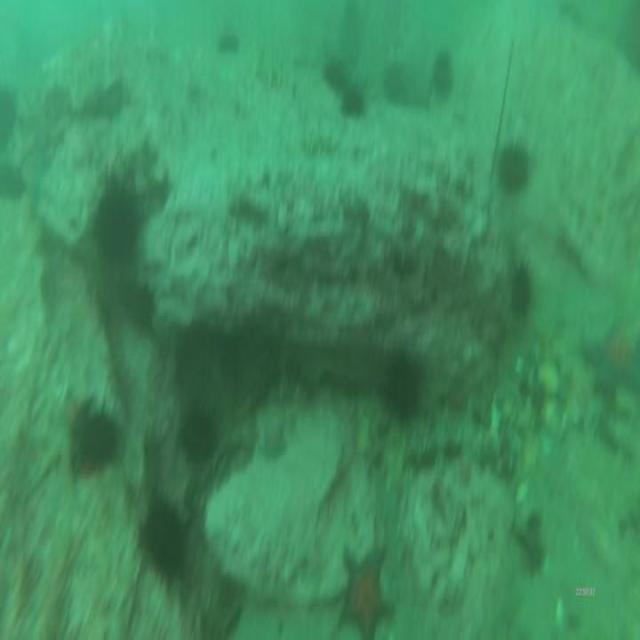echinus: (137, 488, 189, 591), (91, 182, 144, 270), (70, 395, 124, 480), (380, 340, 424, 422), (175, 402, 224, 472), (494, 132, 534, 198), (507, 253, 536, 319), (124, 283, 158, 336), (428, 44, 457, 103), (380, 59, 412, 108), (0, 85, 20, 156), (322, 52, 352, 93), (0, 161, 29, 202), (338, 79, 368, 117), (214, 28, 244, 57)
holothurian: (253, 49, 298, 93), (300, 126, 342, 163)
starfish: (338, 539, 396, 640), (578, 312, 640, 401), (257, 403, 292, 465)
